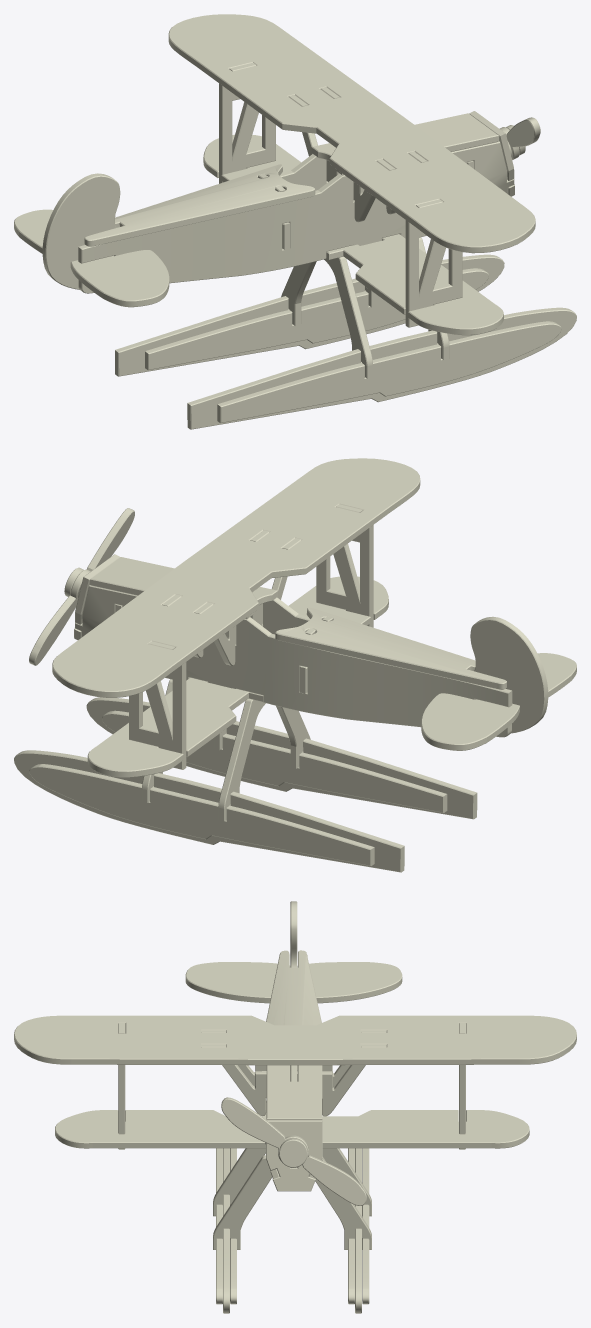
The picture shows the model from 3 angles, top to bottom: view 1: azimuth 30°, elevation 25°; view 2: azimuth 150°, elevation 25°; view 3: azimuth 270°, elevation 25°; orthographic projection. The views are drawn at different scales.
Parts seen in each view (by area): view 1: стойка верхних крыльев 02; view 2: стойка верхних крыльев 02; view 3: стойка верхних крыльев 02.
Boxes of the visible parts, <box> form: стойка верхних крыльев 02: <box>14,14,576,429</box>; стойка верхних крыльев 02: <box>14,458,576,872</box>; стойка верхних крыльев 02: <box>14,901,576,1313</box>.
Bounding box in the file's own units: 886 × 444 × 959.
